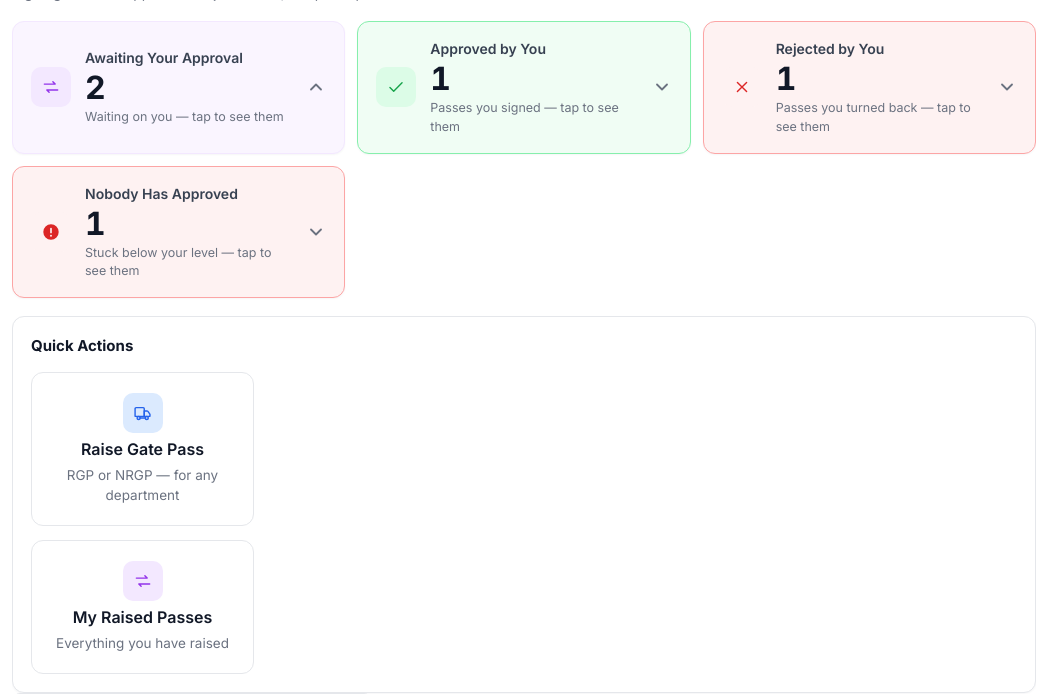
Test case: The stack and its figure › names them on what this person approved and rejected too
Click the button "Approved by You 1 Passes you signed — tap to see them": (396, 87) [357,21,691,154]
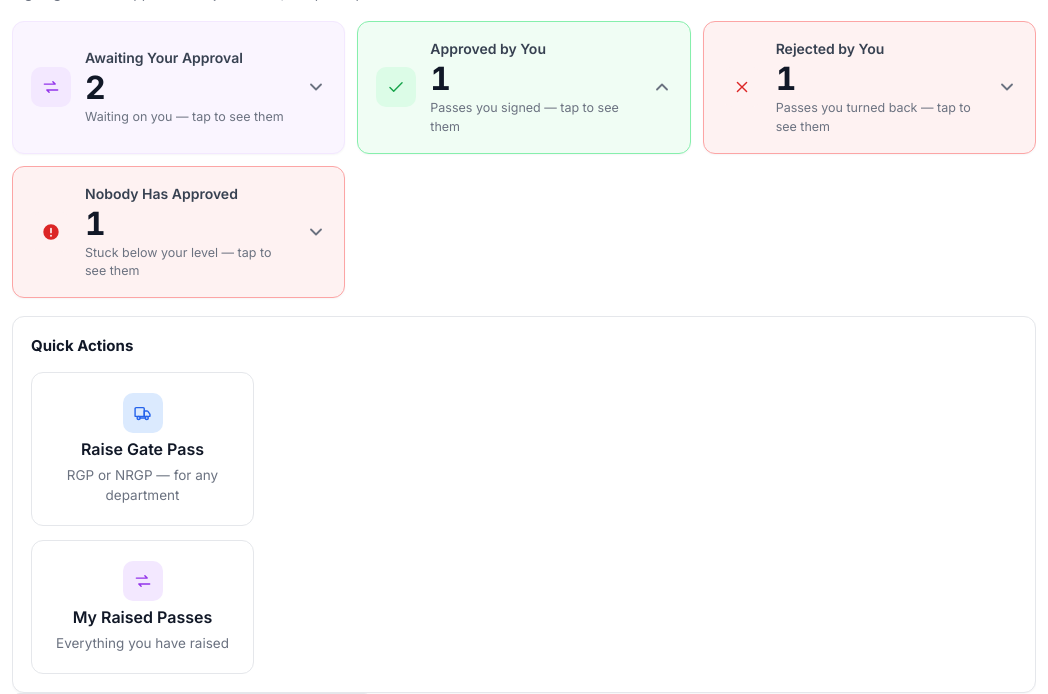
Click the button "Rejected by You 1 Passes you turned back — tap to see them": (742, 87) [703,21,1036,154]
(page scrolled)
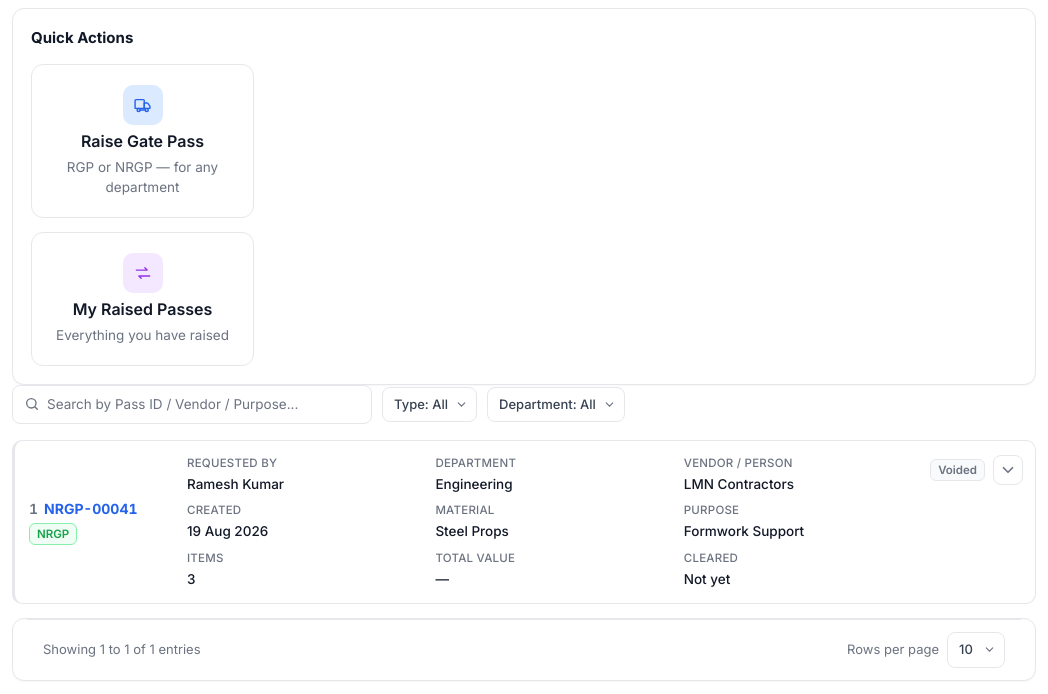
Check: the text "Department" is shown, box [435,456,516,470]
Check: the text "NRGP-00041" is shown, box [44,500,138,517]
